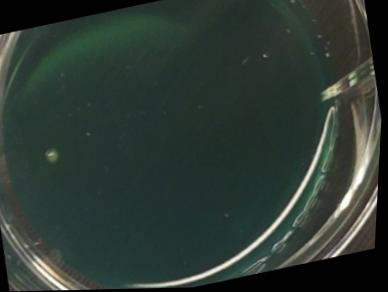vangil: (39, 141, 68, 170)
